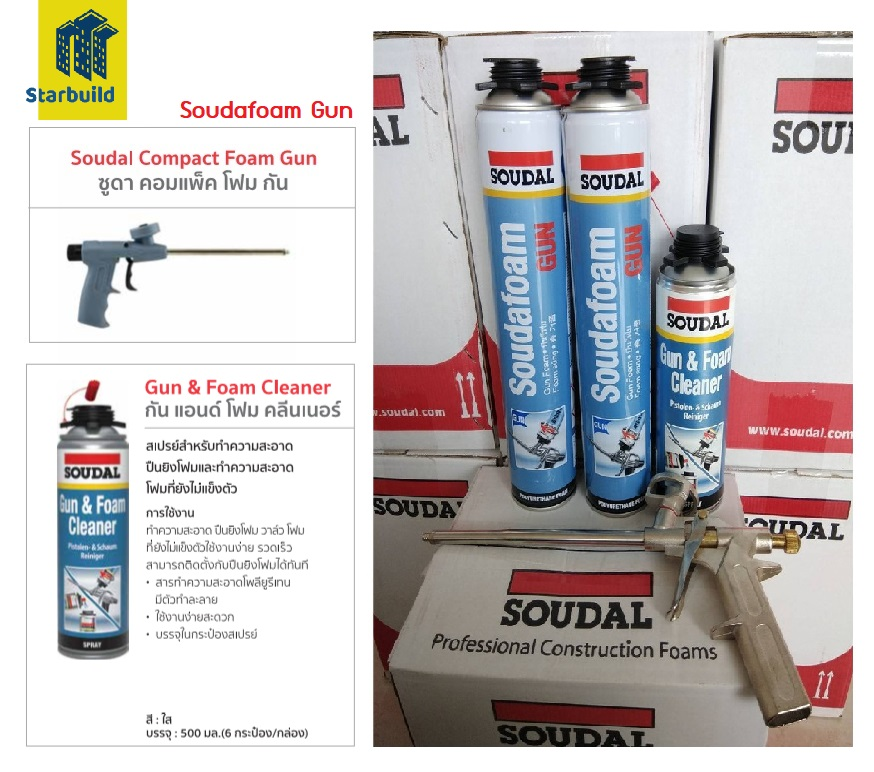Aerosol_cans: (466, 53, 584, 514), (558, 51, 664, 524), (648, 222, 740, 517), (51, 381, 137, 667)
